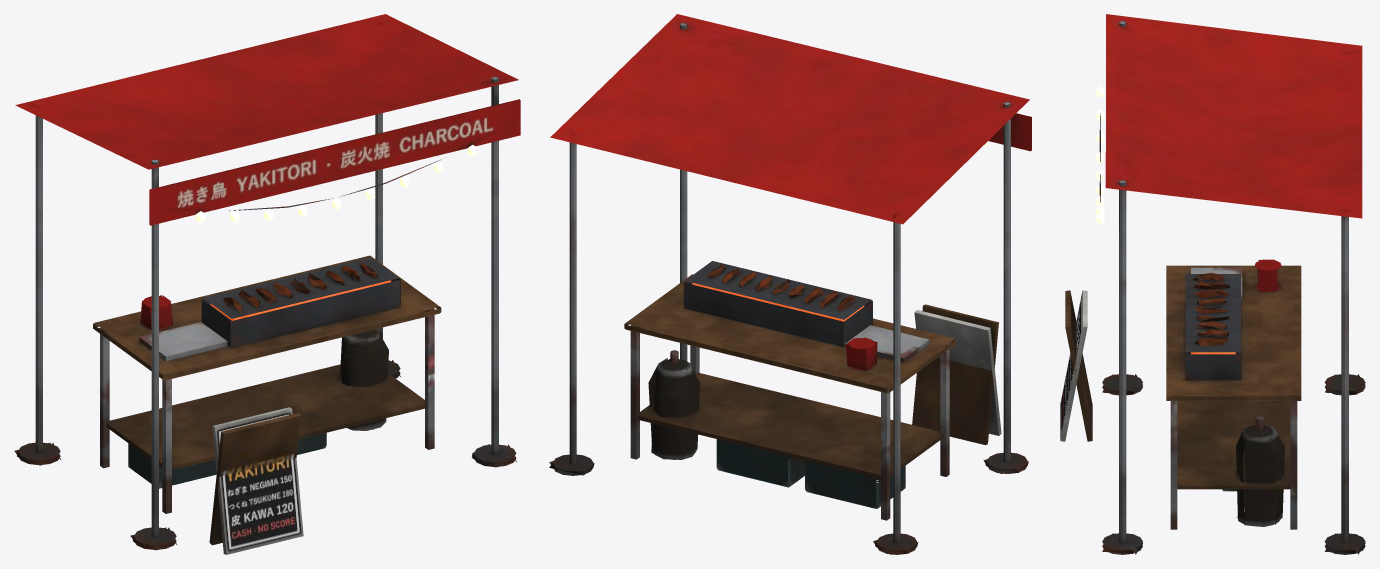
The model's file is skewer_stall_lod1.glb.
The picture shows the model from 3 angles, left to right: view 1: azimuth 30°, elevation 25°; view 2: azimuth 150°, elevation 25°; view 3: azimuth 270°, elevation 25°; orthographic projection. The views are drawn at different scales.
Visible parts, largest first — view 1: skewer_stall; view 2: skewer_stall; view 3: skewer_stall.
Boxes of the visible parts, left/top/right/bottom form: skewer_stall: left=14, top=14, right=520, bottom=554; skewer_stall: left=549, top=14, right=1031, bottom=554; skewer_stall: left=1060, top=14, right=1365, bottom=554.
Size of what is drawn, in the model's own units: 2.45 by 2.36 by 1.79.
Materials: 1 (1 with a texture image).
